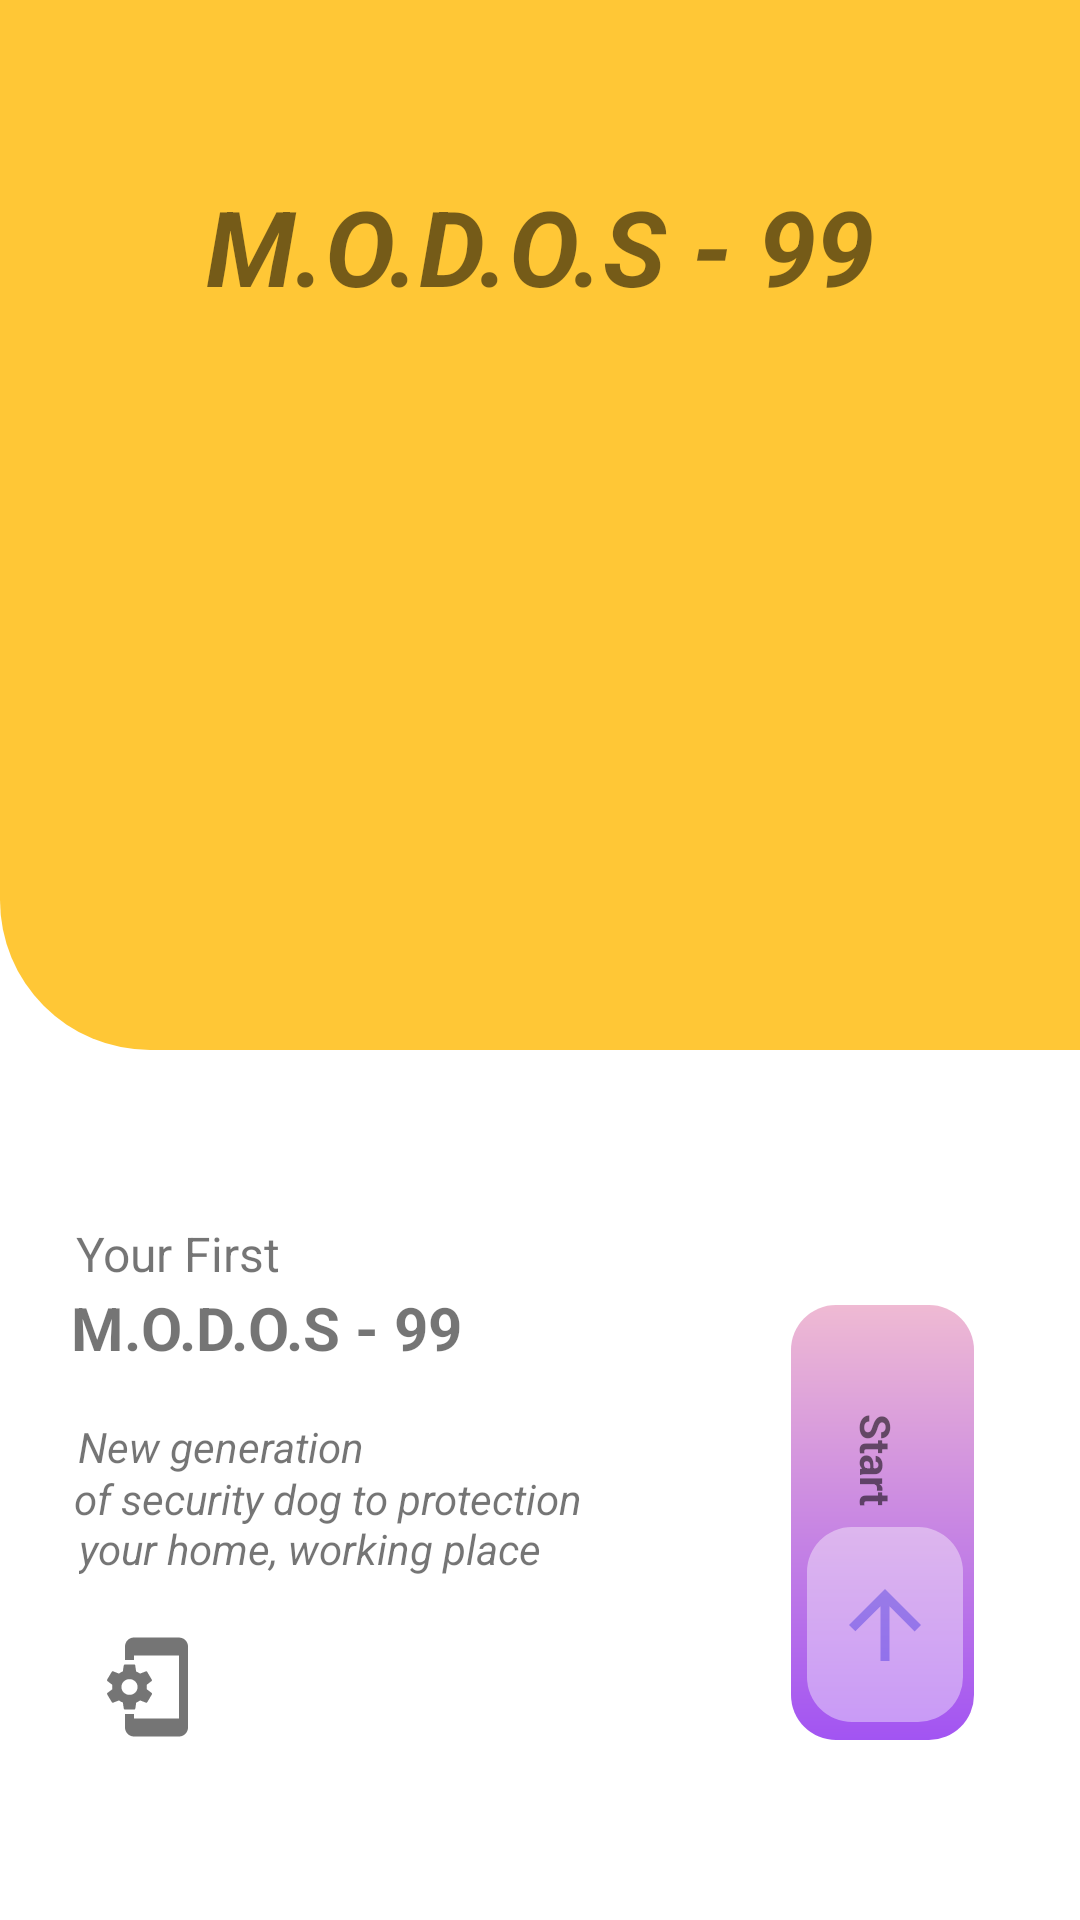

Point at icon controls on the screen. Image size 1080px x 1920px, points as (x,y).
arrow upward: (885,1624)
device: (147,1687)
